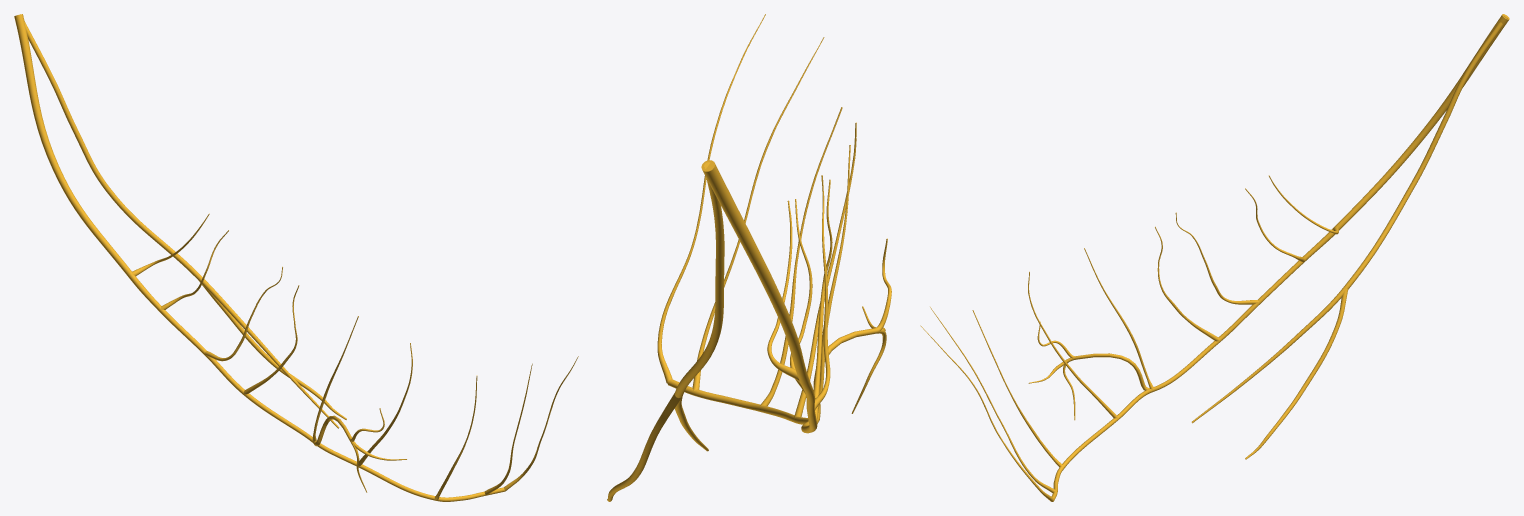
The model's file is nervoso-inferior-alveolar-nerve-r.glb.
3 views of the same model, side by side, from view 1: azimuth 30°, elevation 25°; view 2: azimuth 150°, elevation 25°; view 3: azimuth 270°, elevation 25° (orthographic). The views are drawn at different scales.
Parts seen in each view (by area): view 1: Inferior alveolar nerve.r, Nerve to mylohyoid muscle.r; view 2: Inferior alveolar nerve.r, Nerve to mylohyoid muscle.r, Mental nerve.r; view 3: Inferior alveolar nerve.r, Nerve to mylohyoid muscle.r.
Boxes of the visible parts, x1=… form: Inferior alveolar nerve.r: x1=14, y1=14, x2=578, y2=501; Nerve to mylohyoid muscle.r: x1=24, y1=21, x2=346, y2=428; Inferior alveolar nerve.r: x1=657, y1=14, x2=877, y2=433; Nerve to mylohyoid muscle.r: x1=607, y1=162, x2=724, y2=501; Mental nerve.r: x1=851, y1=238, x2=891, y2=413; Inferior alveolar nerve.r: x1=920, y1=14, x2=1509, y2=501; Nerve to mylohyoid muscle.r: x1=1191, y1=16, x2=1507, y2=459.
Size of the model in its own units: 0.0356 by 0.0451 by 0.0658.
